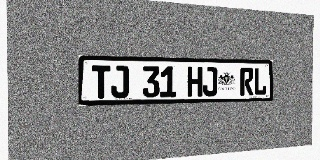1: (160, 66, 176, 97)
3: (143, 66, 159, 98)
H: (187, 67, 202, 97)
J: (111, 65, 129, 98), (203, 67, 217, 96)
L: (254, 68, 267, 95)
R: (240, 67, 253, 96)
T: (92, 65, 110, 99)
